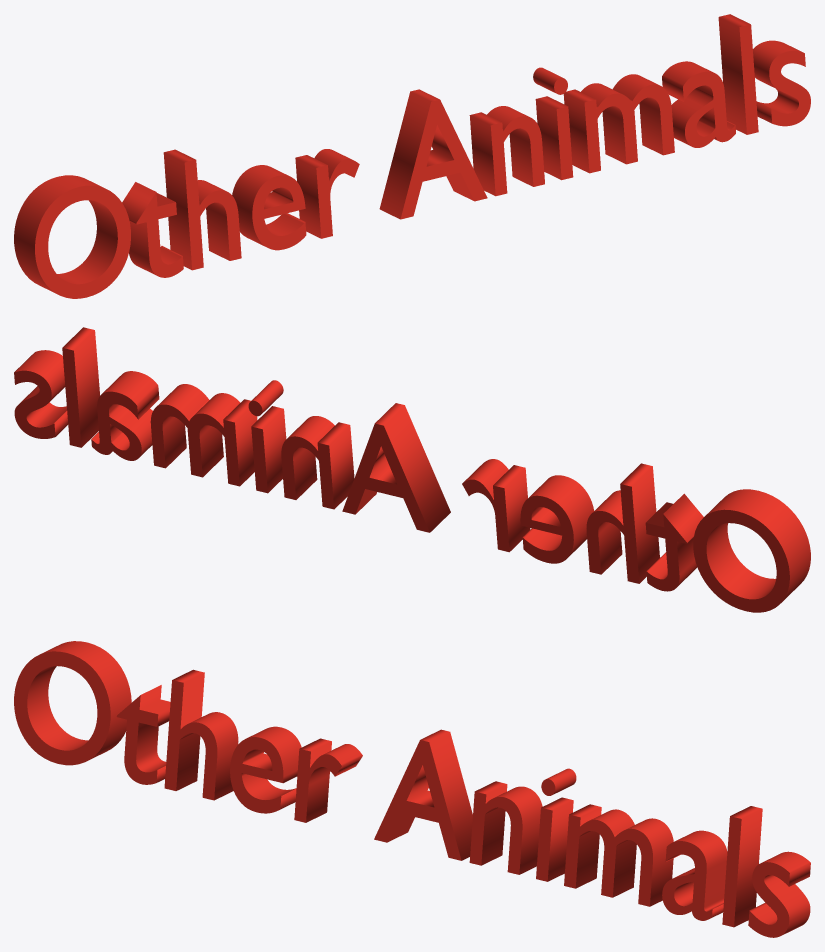
Rendered from ani.glb.
3 renders of one model, top to bottom at view 1: azimuth 30°, elevation 25°; view 2: azimuth 150°, elevation 25°; view 3: azimuth 330°, elevation 25°, orthographic.
Parts seen in each view (by area): view 1: Text; view 2: Text; view 3: Text.
Part boxes in pixels (<box>): Text: <box>14,14,810,298</box>; Text: <box>14,327,810,612</box>; Text: <box>14,641,810,937</box>.
Bounding box in the file's own units: 6.75 × 0.9174 × 0.4339.
